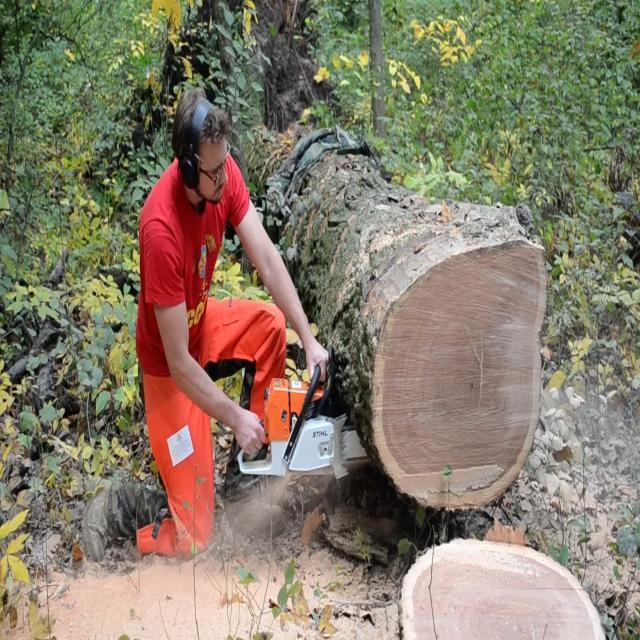Chainsaw: (226, 332, 384, 489)
